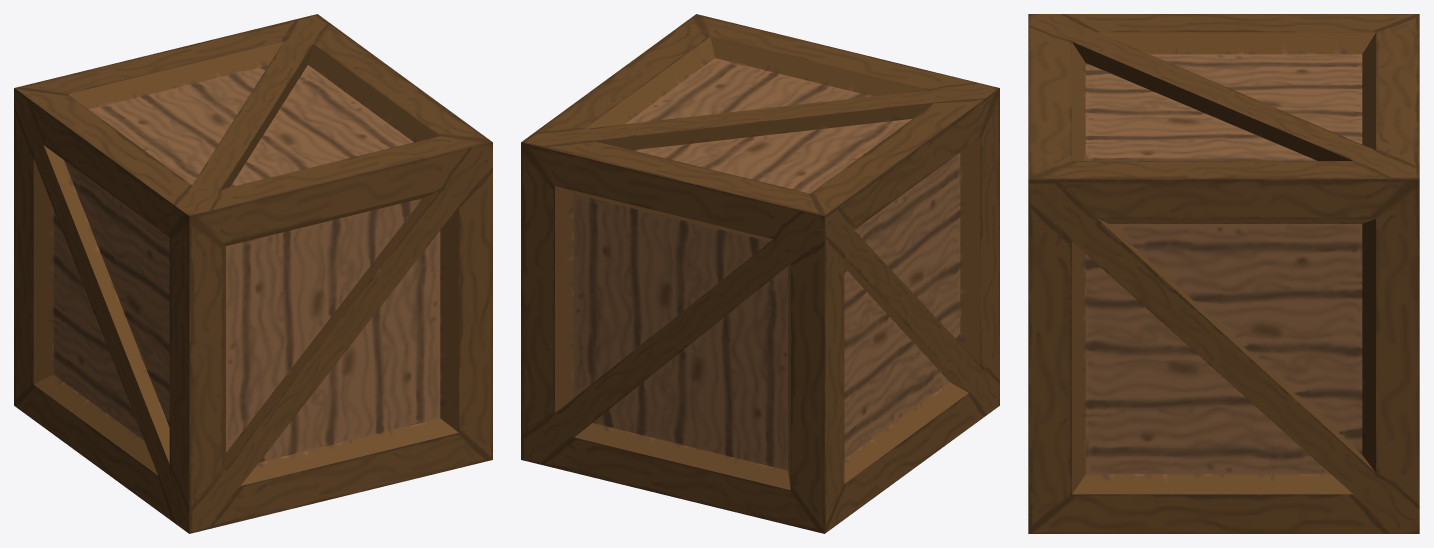
File: crate.fbx
3 renders of one model, left to right at view 1: azimuth 30°, elevation 25°; view 2: azimuth 150°, elevation 25°; view 3: azimuth 270°, elevation 25°, orthographic. The views are drawn at different scales.
Visible parts, largest first — view 1: Cube.003; view 2: Cube.003; view 3: Cube.003.
Part boxes in pixels (x1,y1,x2,y2): Cube.003: (14,14,492,533); Cube.003: (521,14,999,533); Cube.003: (1028,14,1419,533).
Bounding box in the file's own units: 339 × 339 × 339.
